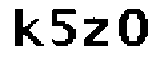0: (116, 5, 152, 49)
5: (47, 8, 78, 49)
k: (11, 4, 44, 52)
z: (83, 16, 110, 48)
